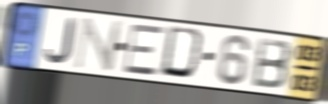6: (216, 33, 251, 86)
B: (250, 36, 295, 92)
D: (158, 24, 209, 83)
E: (122, 23, 166, 78)
J: (44, 17, 77, 66)
N: (72, 16, 125, 73)
